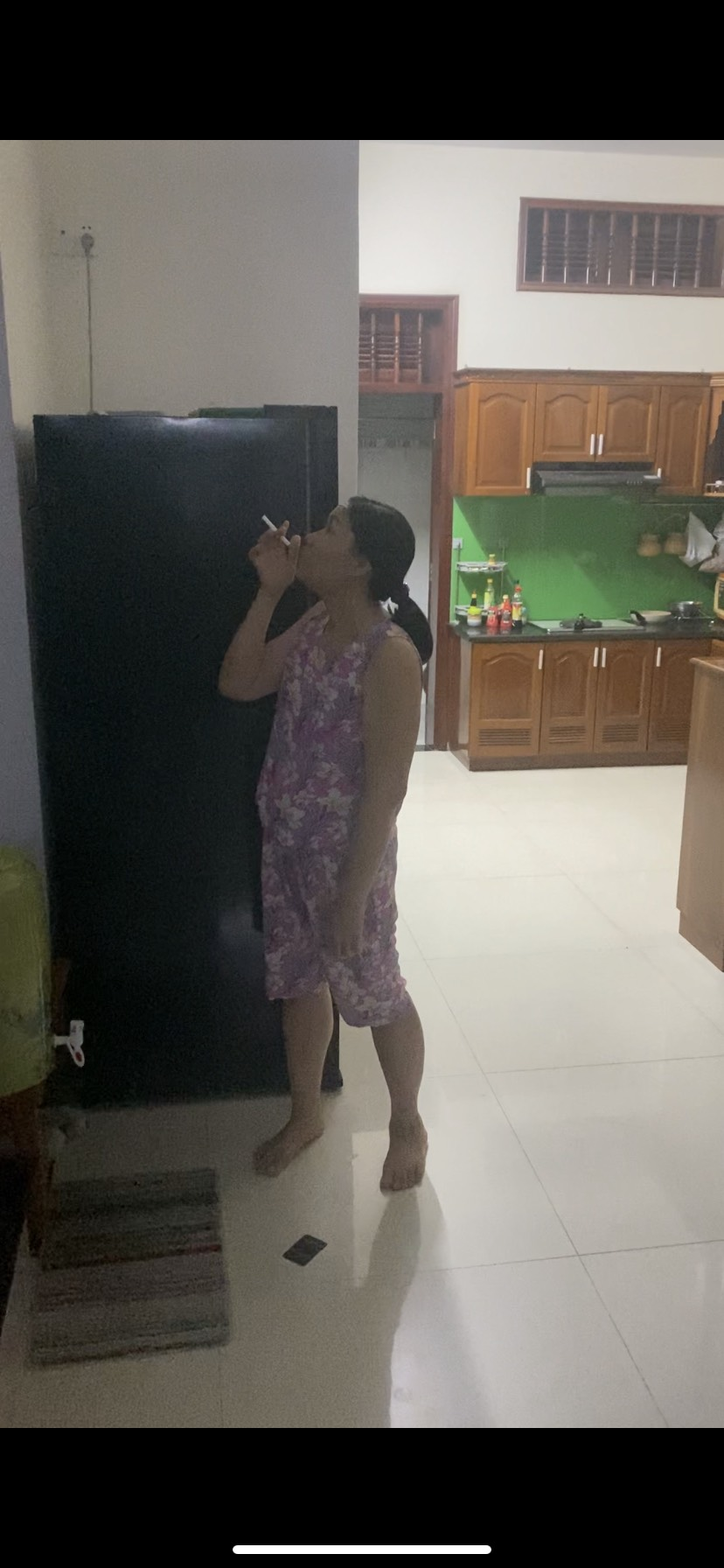cigarette: (256, 509, 280, 534)
person: (250, 485, 435, 1206)
